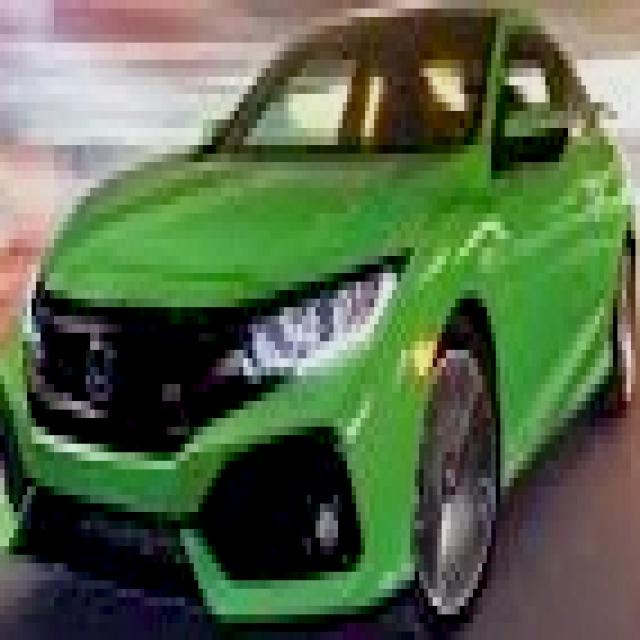green: (0, 10, 640, 575)
